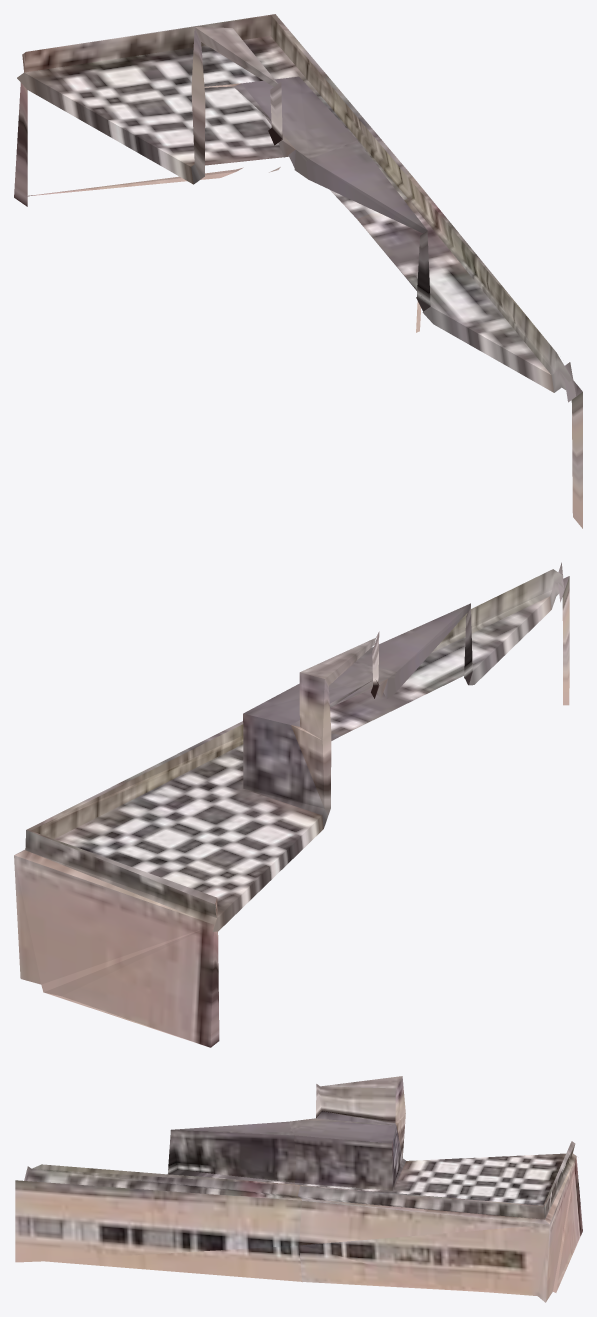
The picture shows the model from 3 angles, top to bottom: view 1: azimuth 30°, elevation 25°; view 2: azimuth 150°, elevation 25°; view 3: azimuth 270°, elevation 25°; orthographic projection. The views are drawn at different scales.
Parts seen in each view (by area): view 1: Mesh_0; view 2: Mesh_0; view 3: Mesh_0.
Part boxes in pixels (x1,y1,x2,y2): Mesh_0: [14, 14, 582, 528]; Mesh_0: [14, 562, 569, 1047]; Mesh_0: [15, 1076, 582, 1302].
Size of the model in its own units: 8.39 by 9.48 by 28.96.
1 material, 1 textured.
